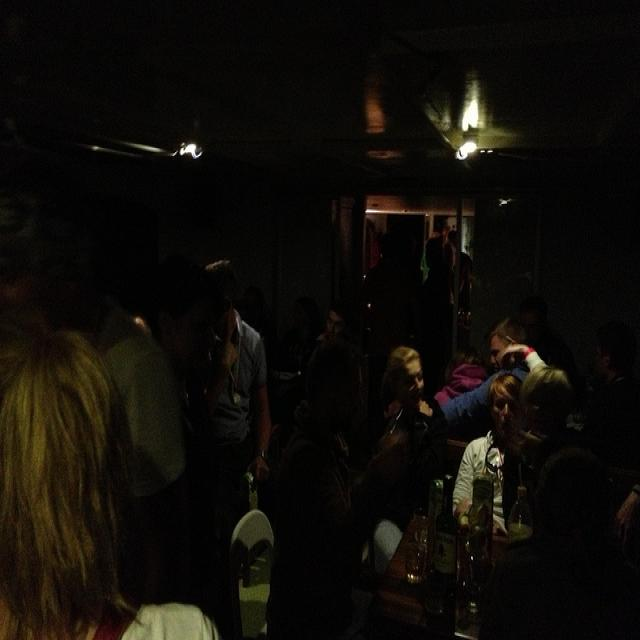Bottle: (431, 468, 460, 590), (405, 502, 435, 590), (510, 478, 537, 560)
People: (0, 333, 163, 624), (289, 314, 381, 512), (146, 265, 237, 422), (474, 374, 526, 519), (388, 342, 440, 455), (589, 319, 629, 427), (518, 294, 558, 366), (489, 315, 522, 376)
